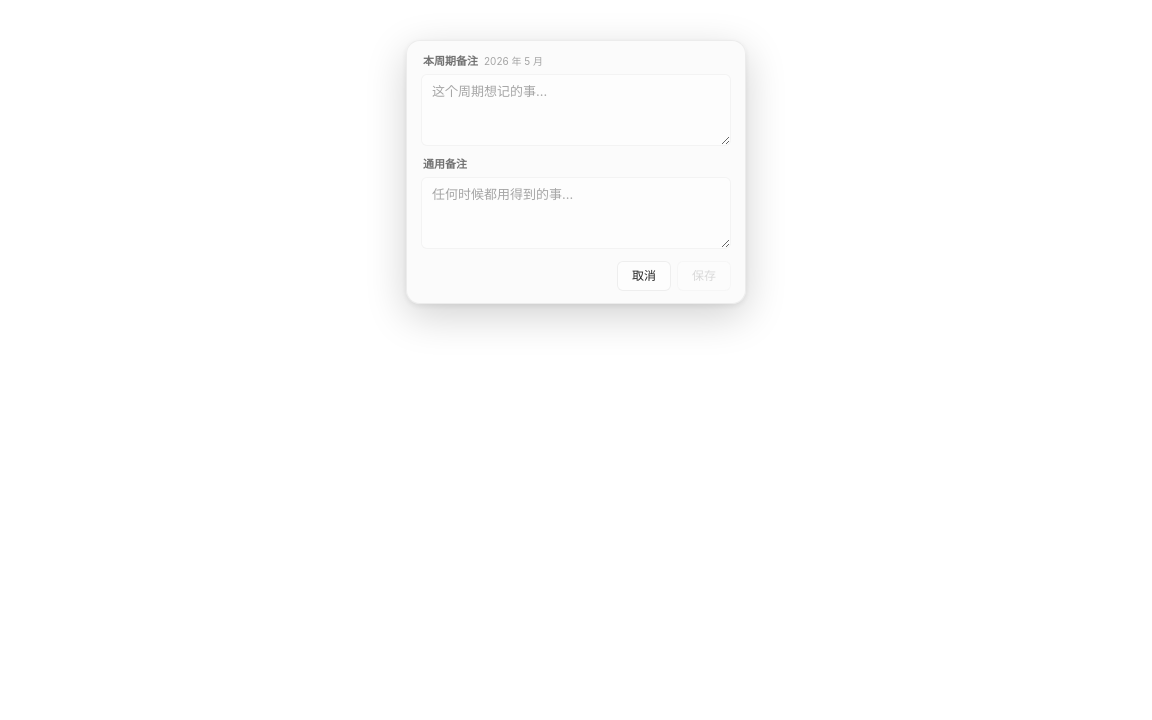
Test: NoteEditor › save is disabled until the user changes something
Expected: the button "保存" is disabled, 677,261 -> 731,291
In the text box with placeholder "这个周期想记的事…": coordinates (576, 110) 421,74 -> 731,146, type "x"
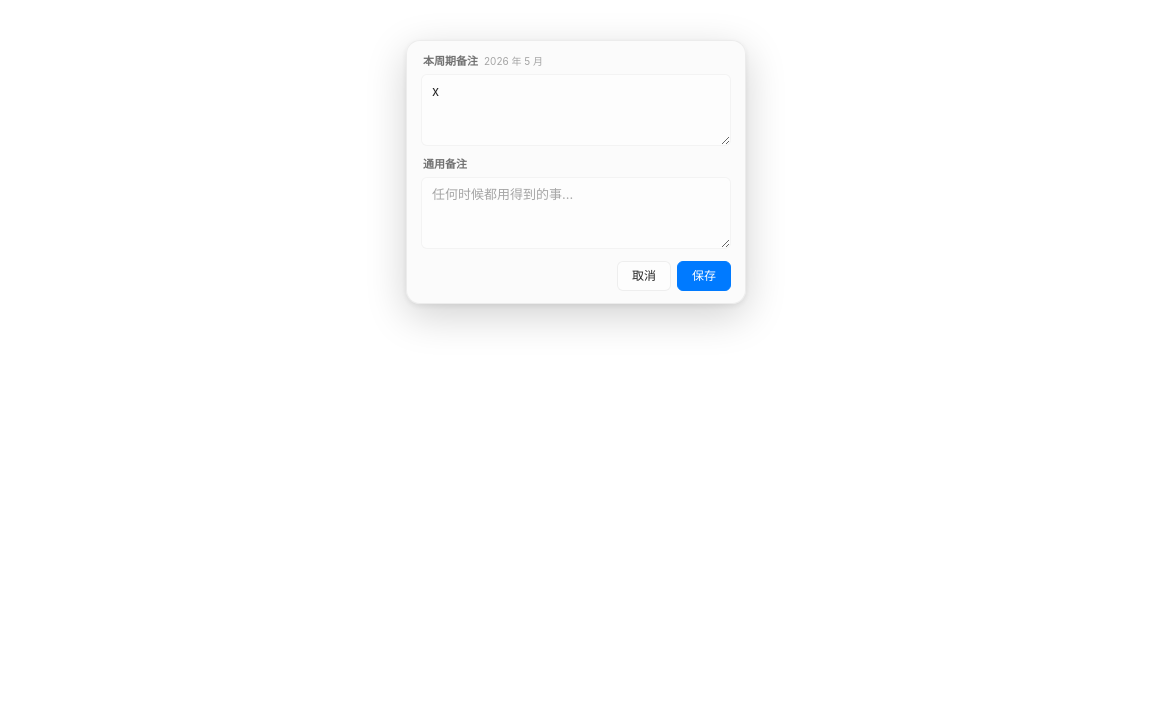
Expected: the button "保存" is enabled, 677,261 -> 731,291
